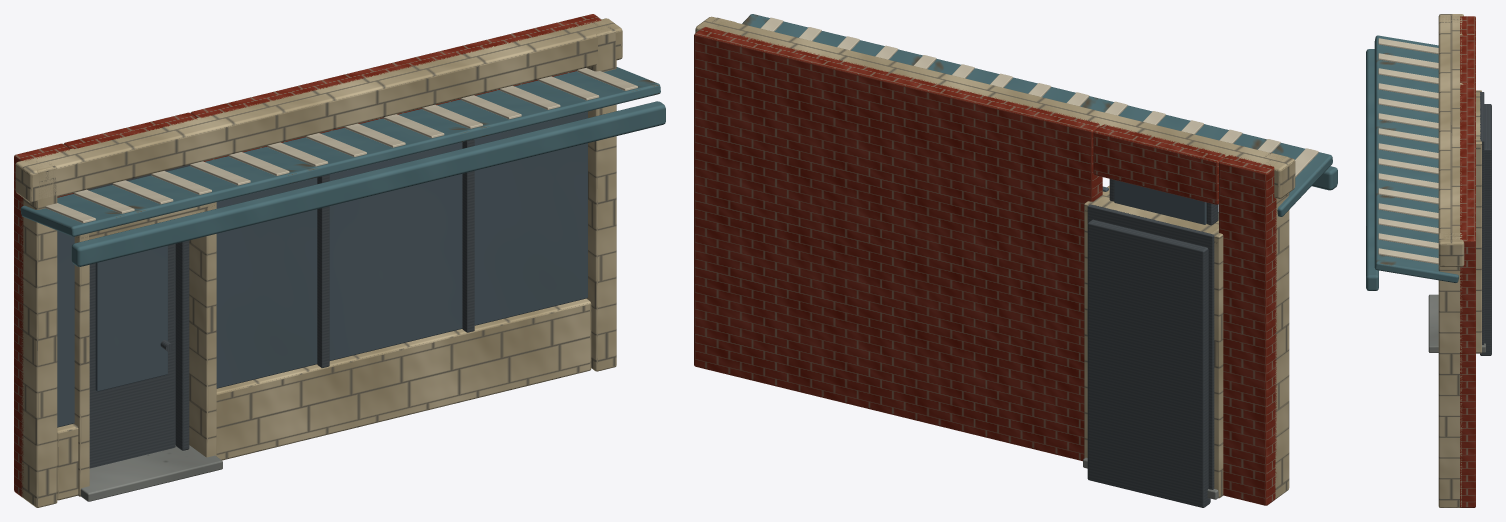
Rendered from storefront-striped-awning.lod0.gltf.
The picture shows the model from 3 angles, left to right: view 1: azimuth 30°, elevation 25°; view 2: azimuth 150°, elevation 25°; view 3: azimuth 270°, elevation 25°; orthographic projection. The views are drawn at different scales.
Parts seen in each view (by area): view 1: storefront-striped-awning; view 2: storefront-striped-awning; view 3: storefront-striped-awning.
Boxes of the visible parts, box(x1,y1,x2,y2) form: storefront-striped-awning: box(14, 14, 665, 507); storefront-striped-awning: box(694, 14, 1337, 507); storefront-striped-awning: box(1366, 14, 1491, 507).
Size of the model in its own units: 5.52 by 3.07 by 1.28.
Materials: 7 (7 with a texture image).
